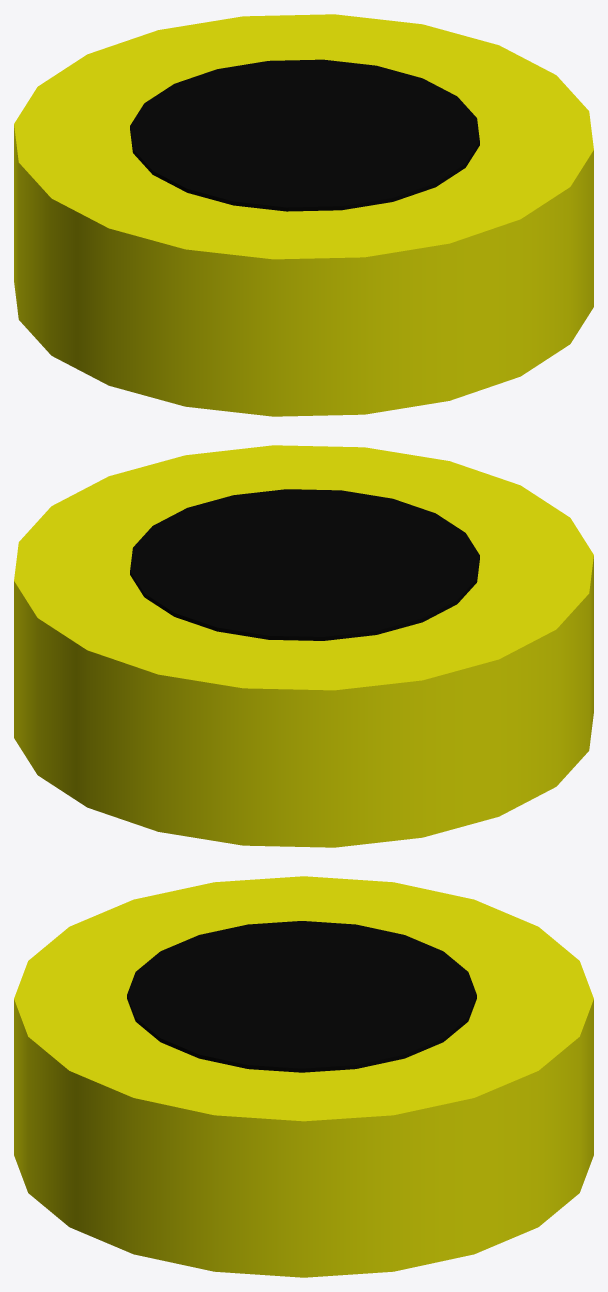
The model's file is Yellow Coin P.fbx.
The picture shows the model from 3 angles, top to bottom: view 1: azimuth 30°, elevation 25°; view 2: azimuth 150°, elevation 25°; view 3: azimuth 270°, elevation 25°; orthographic projection.
Parts seen in each view (by area): view 1: pCylinder1, pCylinder2; view 2: pCylinder1, pCylinder2; view 3: pCylinder1, pCylinder2.
Part boxes in pixels (x1,y1,x2,y2): pCylinder1: (14, 14, 593, 416); pCylinder2: (130, 59, 479, 211); pCylinder1: (14, 445, 593, 847); pCylinder2: (130, 489, 479, 640); pCylinder1: (14, 876, 593, 1277); pCylinder2: (127, 921, 476, 1072).
Bounding box in the file's own units: 2 × 0.6103 × 2.
